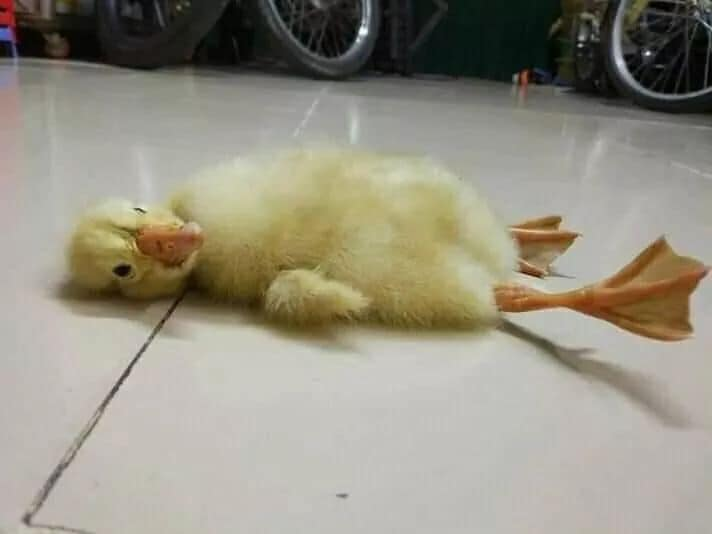Vịt/Duck: (48, 112, 712, 377)
